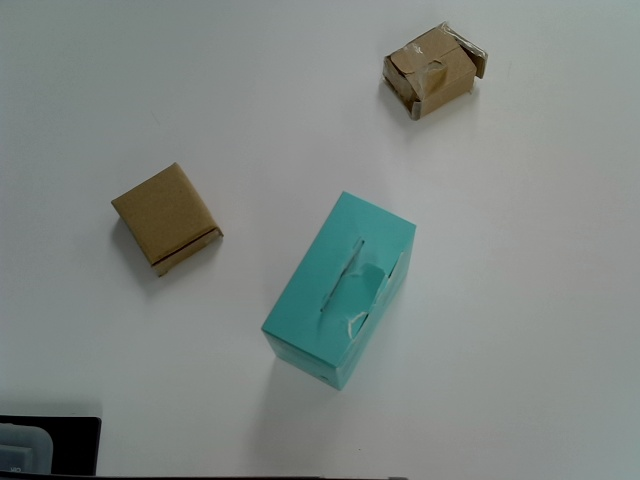defect: (383, 22, 488, 121)
normal: (111, 163, 223, 279)
